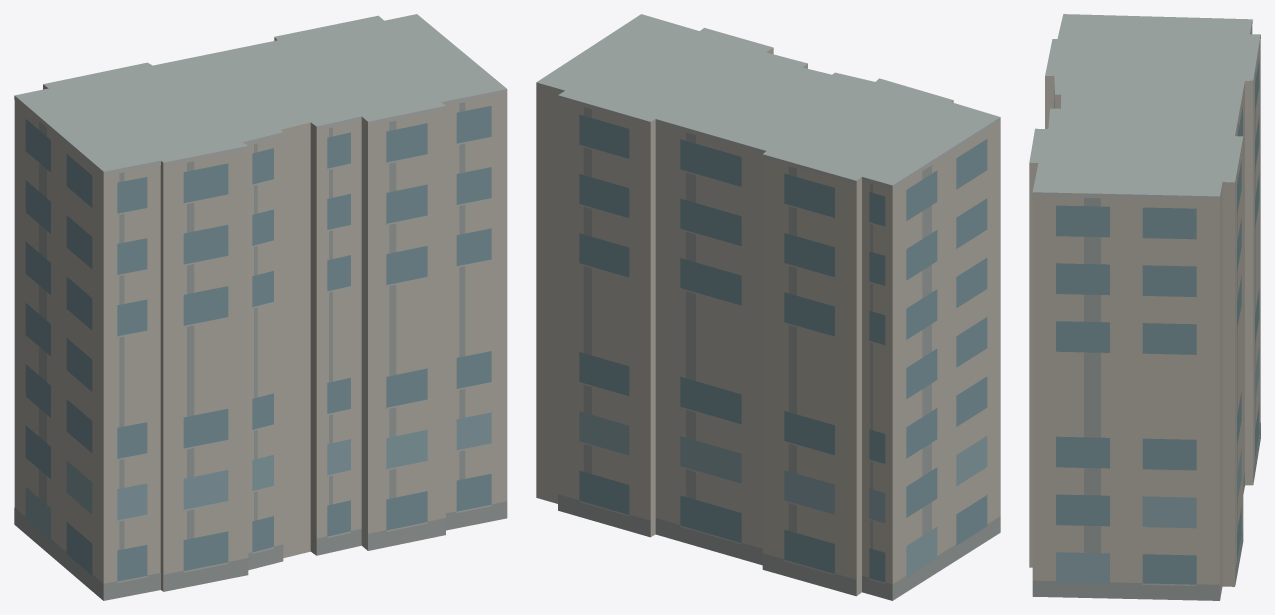
File: survey-upis-32499339.glb
3 views of the same model, side by side, from view 1: azimuth 30°, elevation 25°; view 2: azimuth 150°, elevation 25°; view 3: azimuth 270°, elevation 25° (orthographic). The views are drawn at different scales.
Parts seen in each view (by area): view 1: survey-upis-32499339.tmp; view 2: survey-upis-32499339.tmp; view 3: survey-upis-32499339.tmp.
Boxes of the visible parts, x1,y1,x2,y2 form: survey-upis-32499339.tmp: (14, 14, 507, 600); survey-upis-32499339.tmp: (536, 14, 1000, 600); survey-upis-32499339.tmp: (1029, 14, 1260, 600).
Size of the model in its own units: 21.5 by 22.22 by 11.54.
